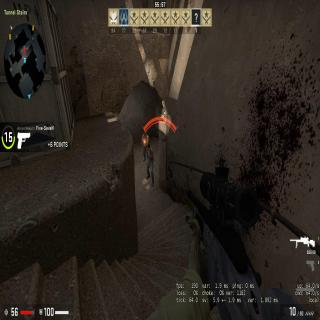T-Body: (145, 143, 155, 186), (142, 129, 150, 162)
T-Head: (148, 143, 150, 149), (144, 130, 146, 135)
